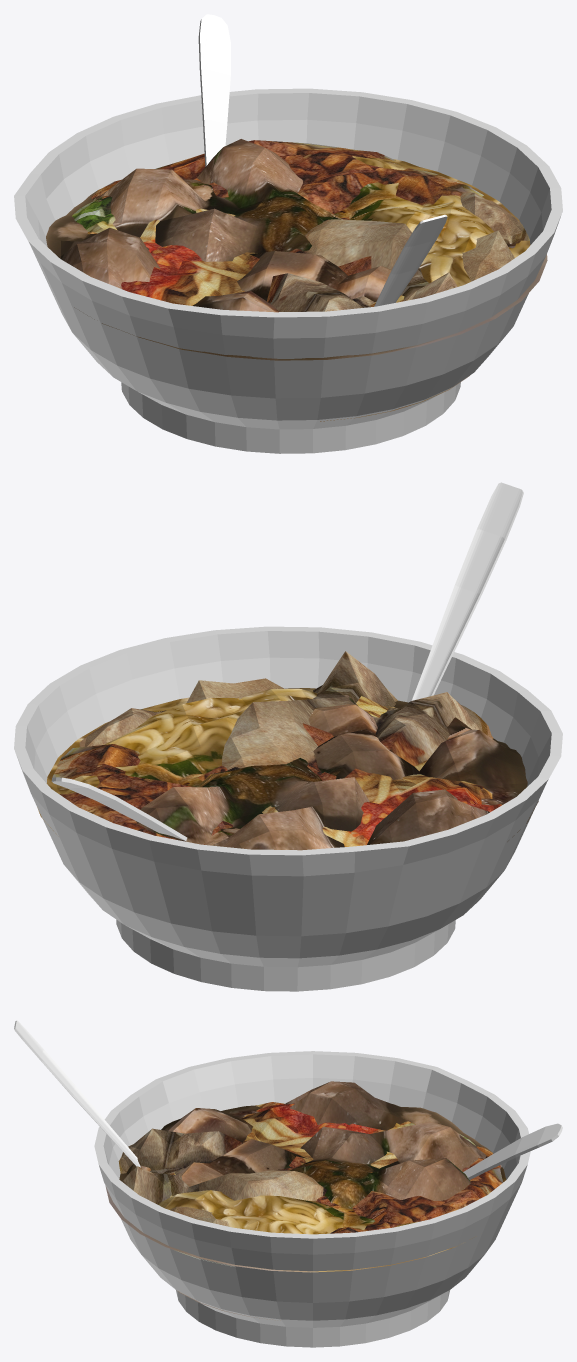
The model's file is mangkuk_bakso_mie_ayam.glb.
3 views of the same model, one above another, from view 1: azimuth 30°, elevation 25°; view 2: azimuth 150°, elevation 25°; view 3: azimuth 270°, elevation 25° (orthographic). The views are drawn at different scales.
Parts seen in each view (by area): view 1: mangkuk, bakso biasa, Mie ayam bakso, mie ayam, sendok, garpu; view 2: mangkuk, bakso biasa, Mie ayam bakso, mie ayam, garpu, sendok; view 3: mangkuk, bakso biasa, Mie ayam bakso, mie ayam, garpu, sendok.
Part boxes in pixels (x1,y1,x2,y2): mangkuk: (14,88,562,453); bakso biasa: (46,139,547,360); Mie ayam bakso: (87,179,529,311); mie ayam: (72,140,483,306); sendok: (198,14,230,166); garpu: (374,214,447,306); mangkuk: (14,626,562,991); bakso biasa: (37,688,538,850); Mie ayam bakso: (79,651,501,846); mie ayam: (52,696,492,844); garpu: (411,482,523,700); sendok: (51,777,187,840); mangkuk: (94,1051,530,1347); bakso biasa: (105,1081,506,1272); Mie ayam bakso: (118,1102,501,1266); mie ayam: (170,1113,503,1233); garpu: (14,1020,140,1167); sendok: (463,1123,562,1179).
Size of the model in its own units: 0.252 by 0.1589 by 0.3117.
6 materials, 4 textured.
